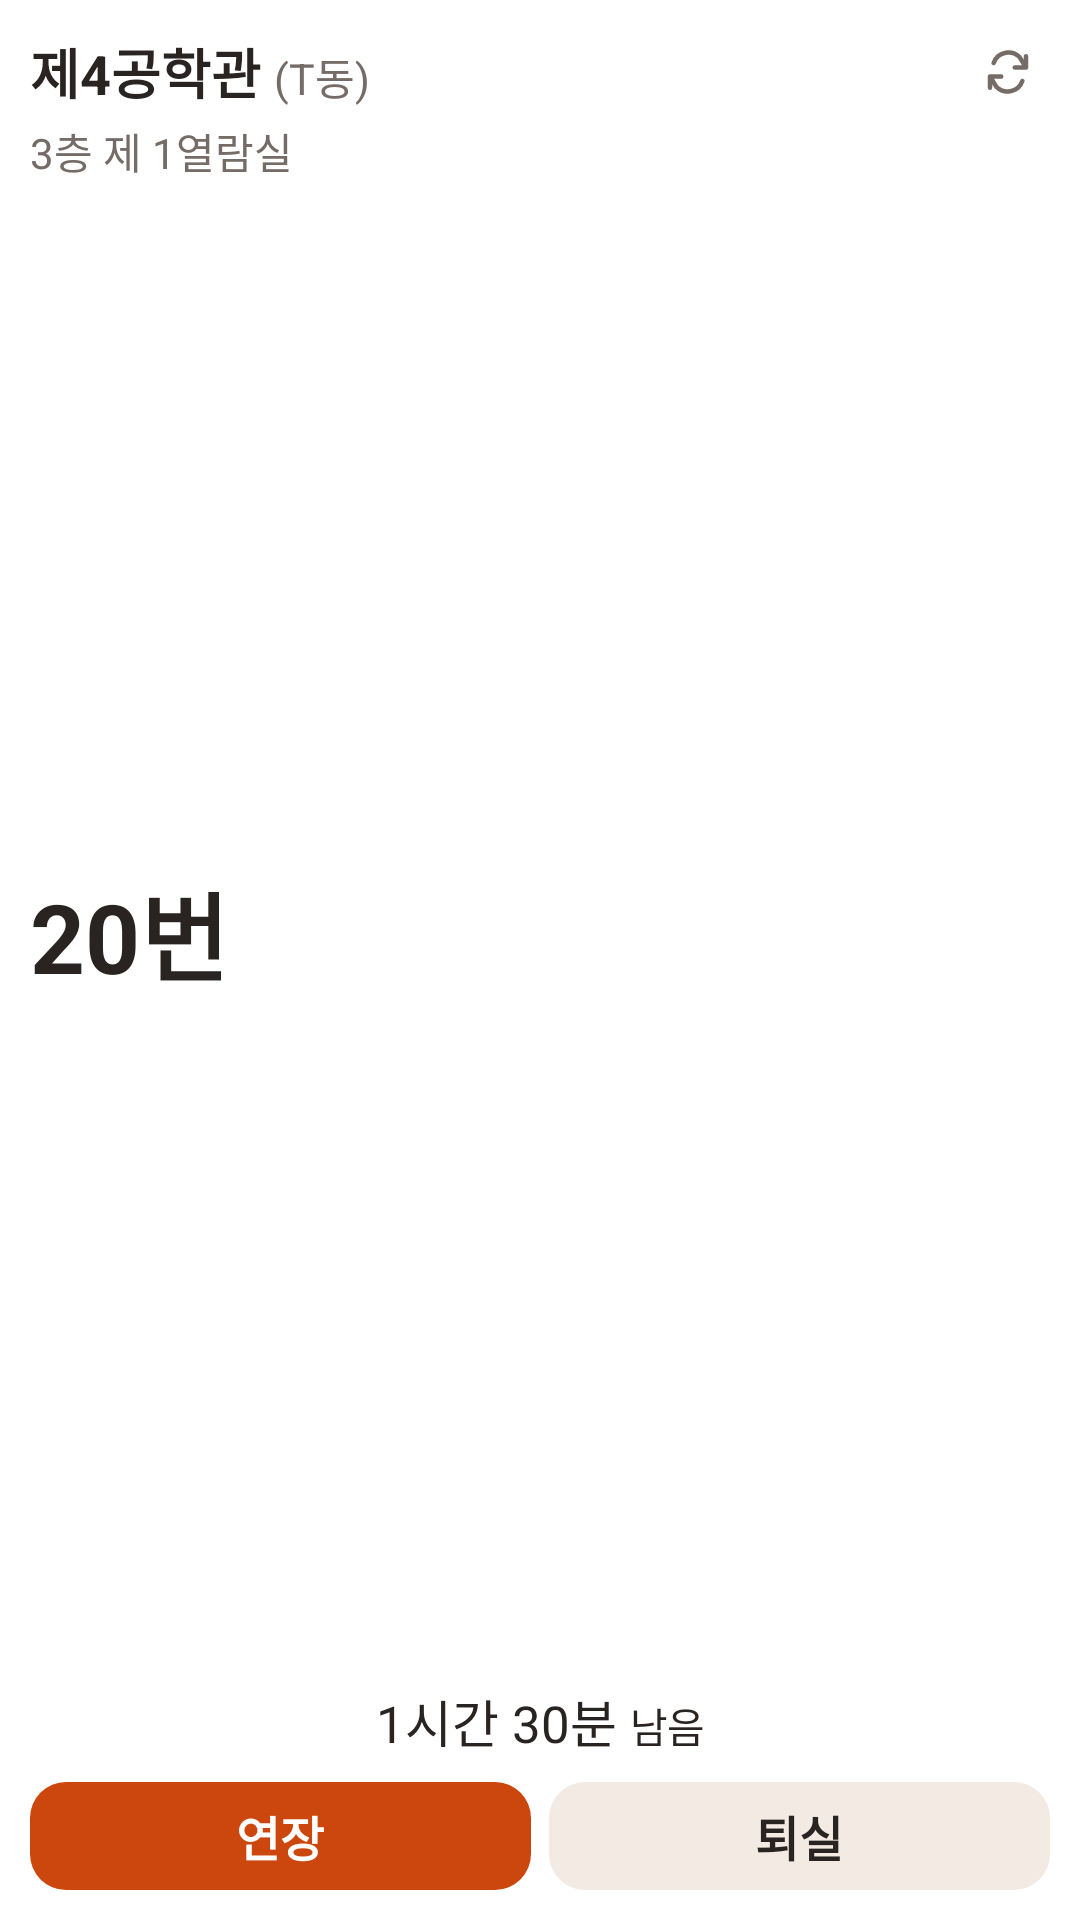

Locate icon controls on the screen. Image size 1080x1920, boxes as (x1, y1, x2, y2).
widget refresh: (987, 50, 1029, 94)
